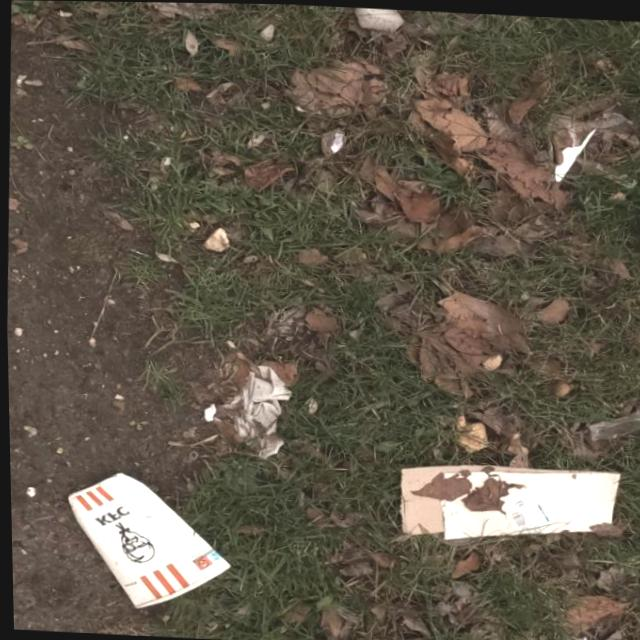Cup: (68, 467, 220, 606)
